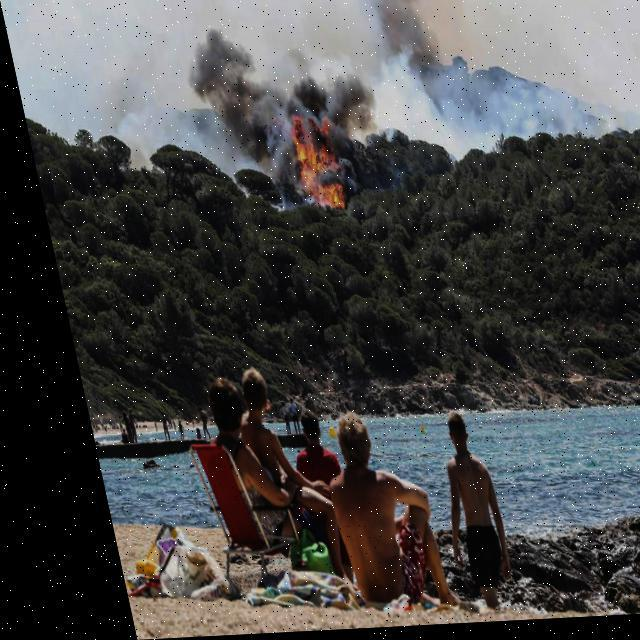Fire: (278, 120, 348, 214)
